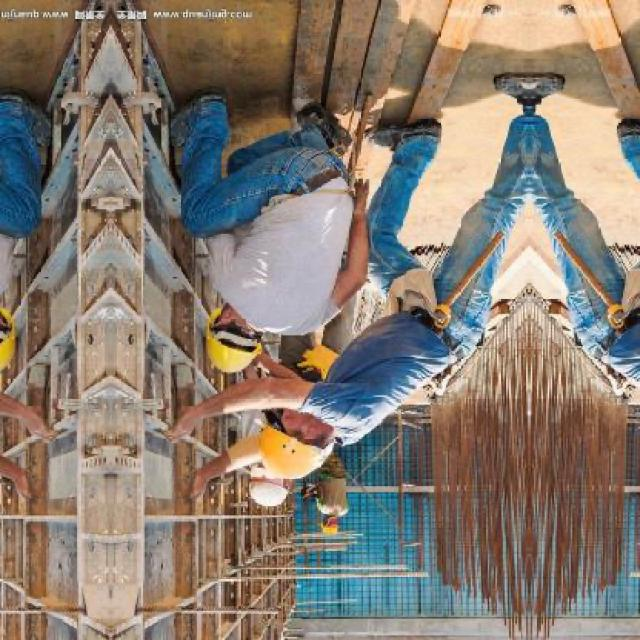con casco: (218, 385, 359, 499), (170, 303, 296, 389)
